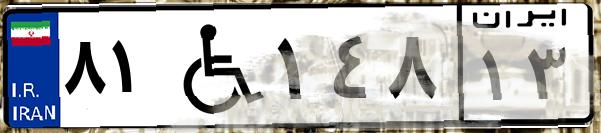1: (270, 28, 330, 110), (475, 38, 525, 113), (110, 28, 158, 98)
3: (525, 38, 570, 115)
4: (330, 28, 385, 110)
8: (385, 28, 445, 110), (57, 26, 110, 100)
ژ (معلولین و جانبازان): (158, 12, 270, 120)
